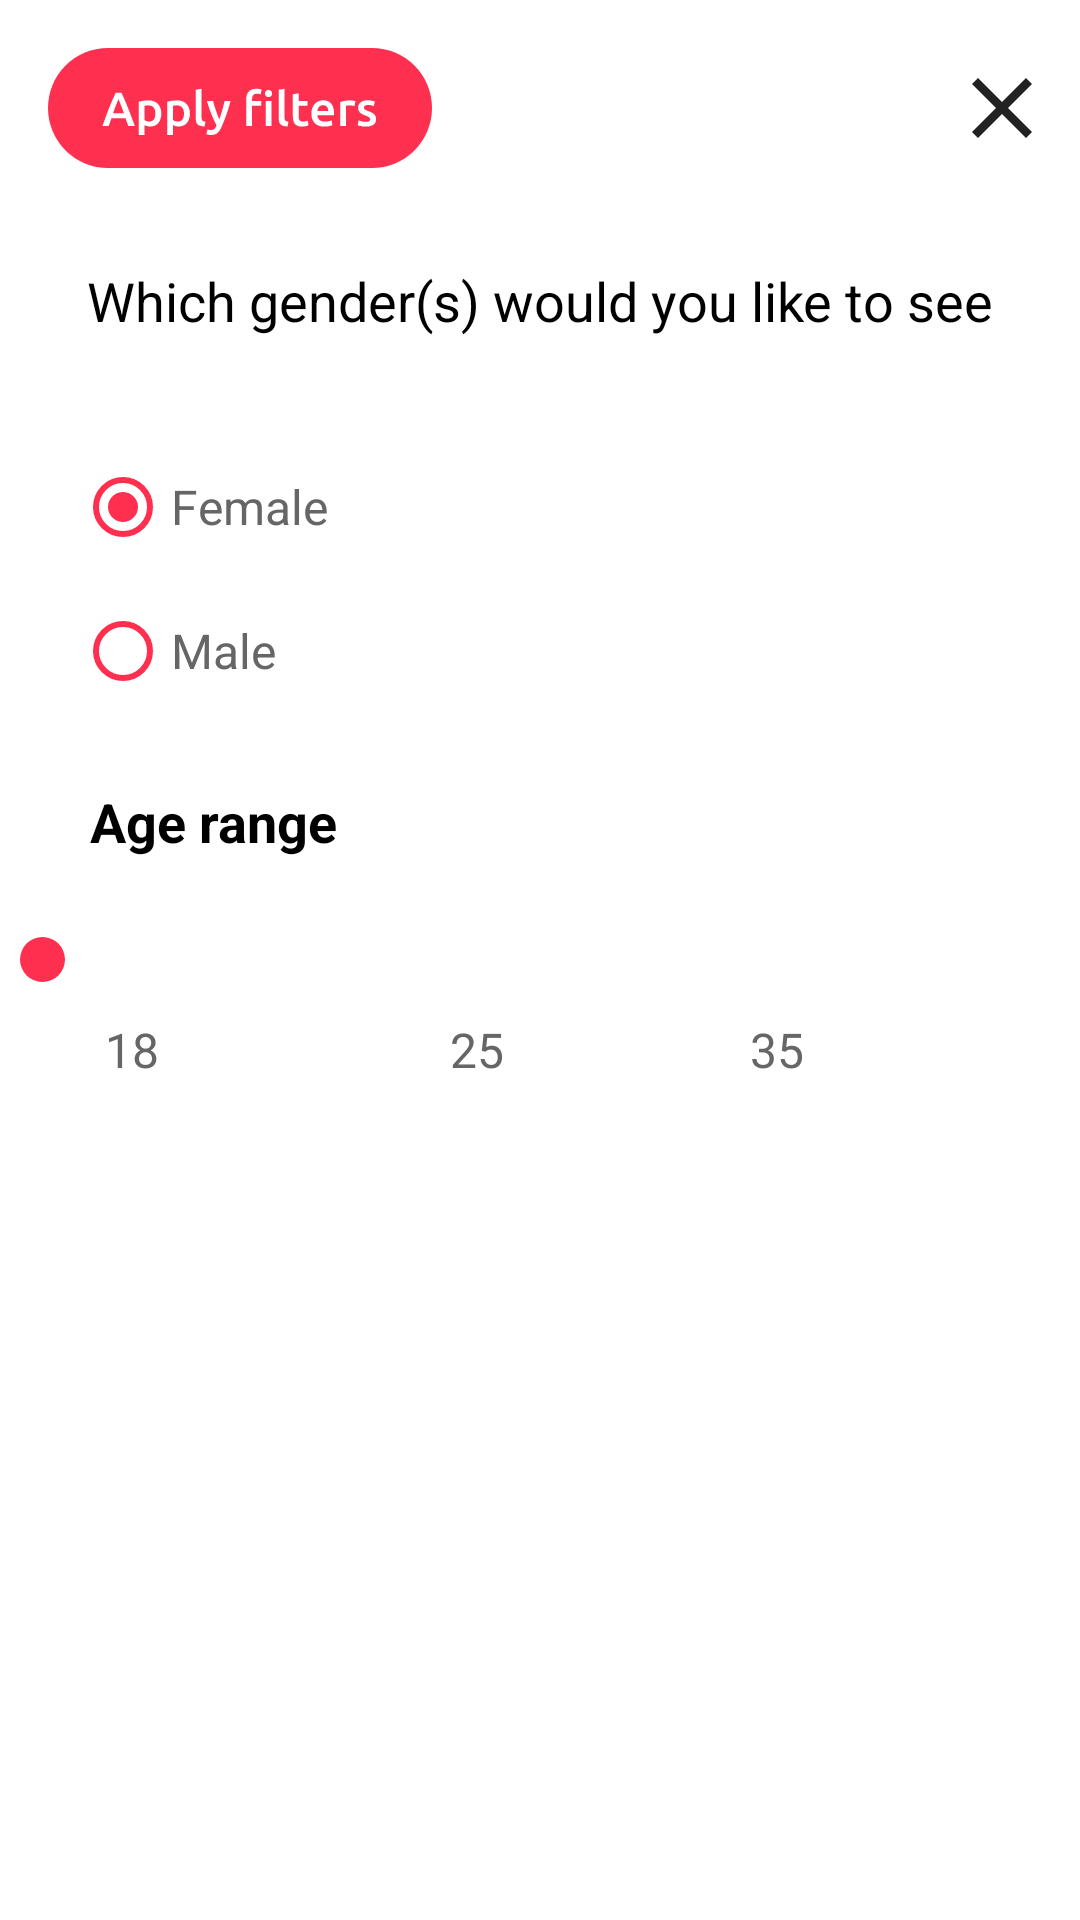

Screen size 1080*1920. Icon name, then its center in pixels as (x=x, y=y):
closefilter: (x=1002, y=108)
